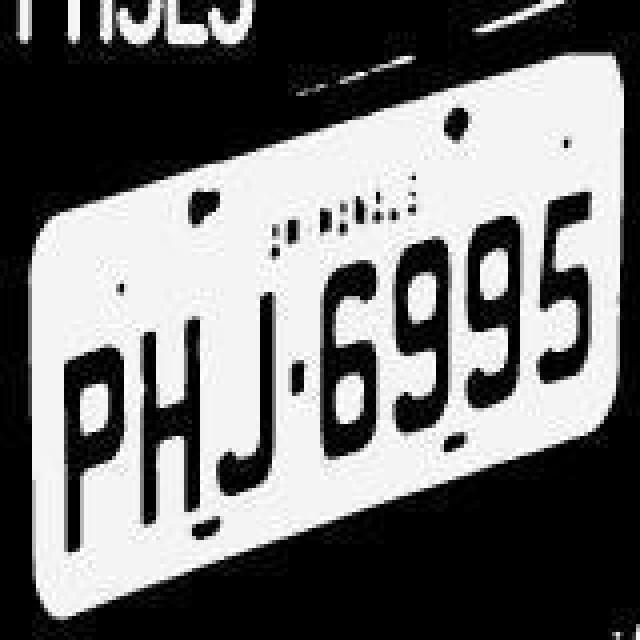5: (534, 184, 602, 400)
6: (314, 256, 382, 464)
9: (456, 200, 528, 416), (390, 224, 458, 440)
H: (132, 316, 204, 532)
J: (212, 286, 284, 498)
P: (54, 342, 130, 554)
